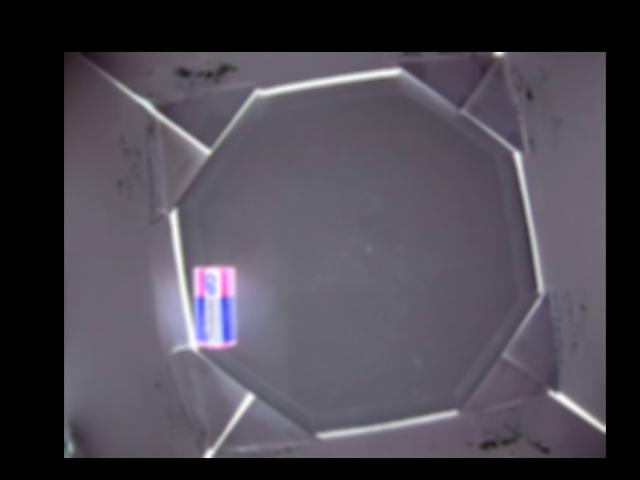Battery: (194, 266, 235, 349)
